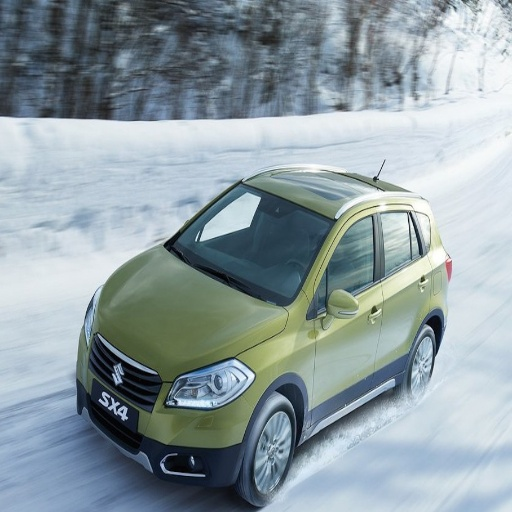back_left_door: (377, 203, 429, 382)
front_bumper: (88, 334, 256, 485)
front_glass: (167, 185, 334, 306)
front_left_door: (312, 207, 382, 421)
